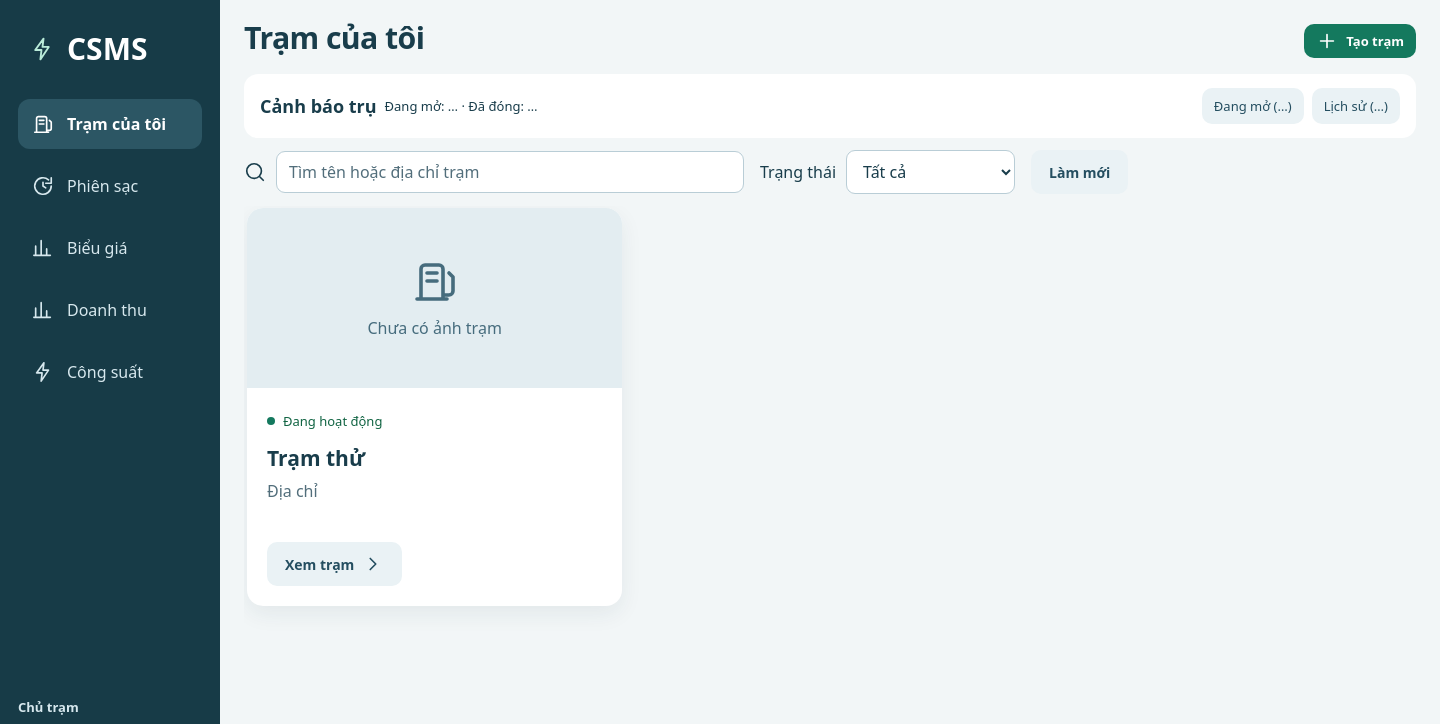
opens connector 1 from the charger card and preserves an explicit connector choice
This screenshot has width=1440, height=724.
Click the button with aria-label "Xem chi tiết Trạm thử". click: point(335, 564)
box: x1=267 y1=542 x2=402 y2=586
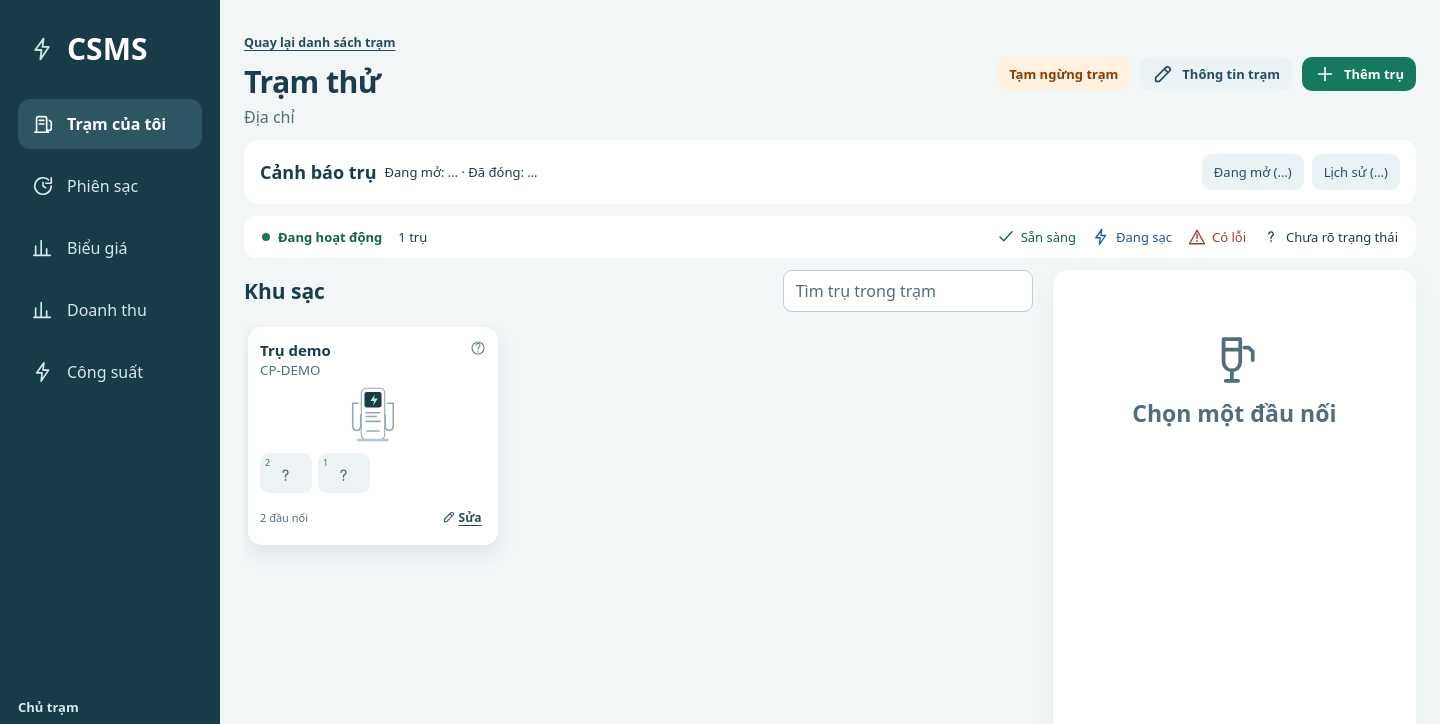
Click the button with aria-label "Xem trụ Trụ demo". click: point(295, 350)
box: x1=260 y1=340 x2=331 y2=360
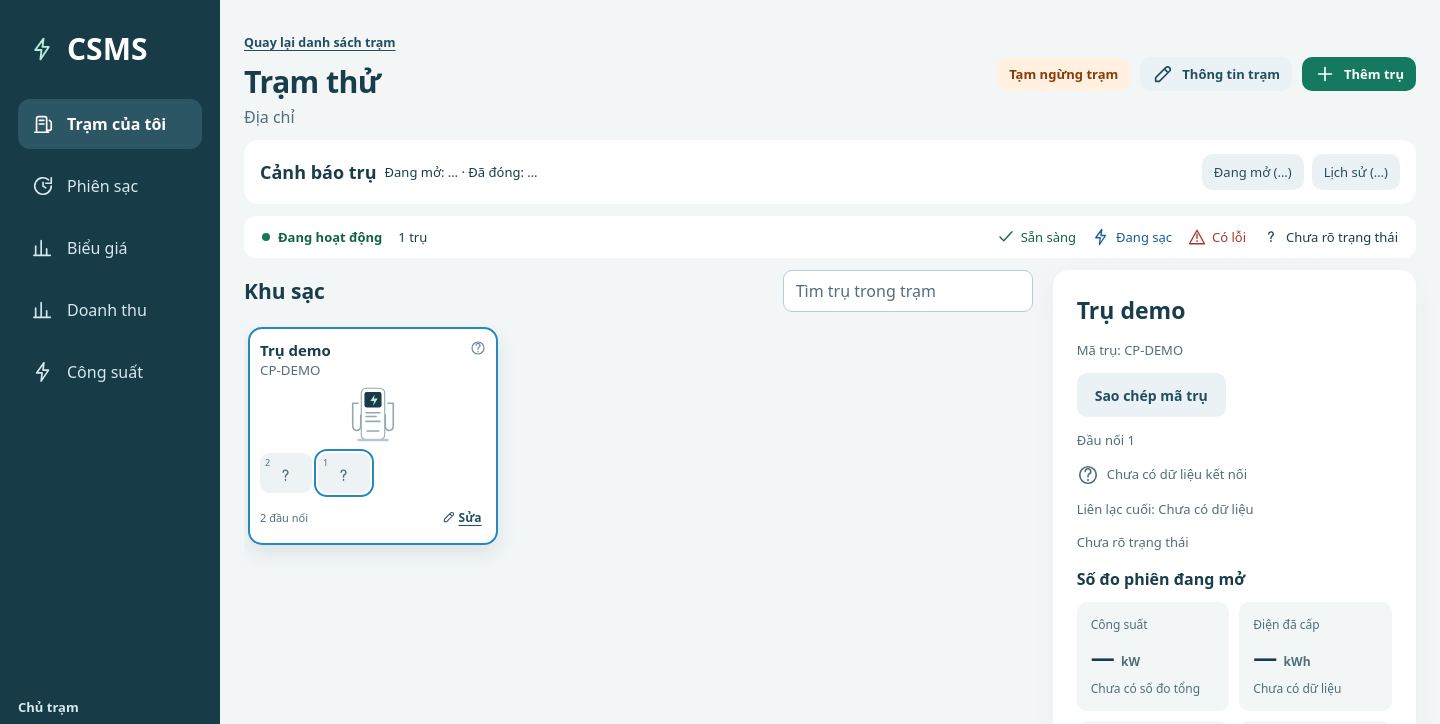
Expected: the text "Đầu nối 1" is shown, x1=1077 y1=431 x2=1135 y2=449
Click the button named "CP-DEMO · Đầu nối 2:". click: point(286, 473)
box: x1=260 y1=453 x2=312 y2=493
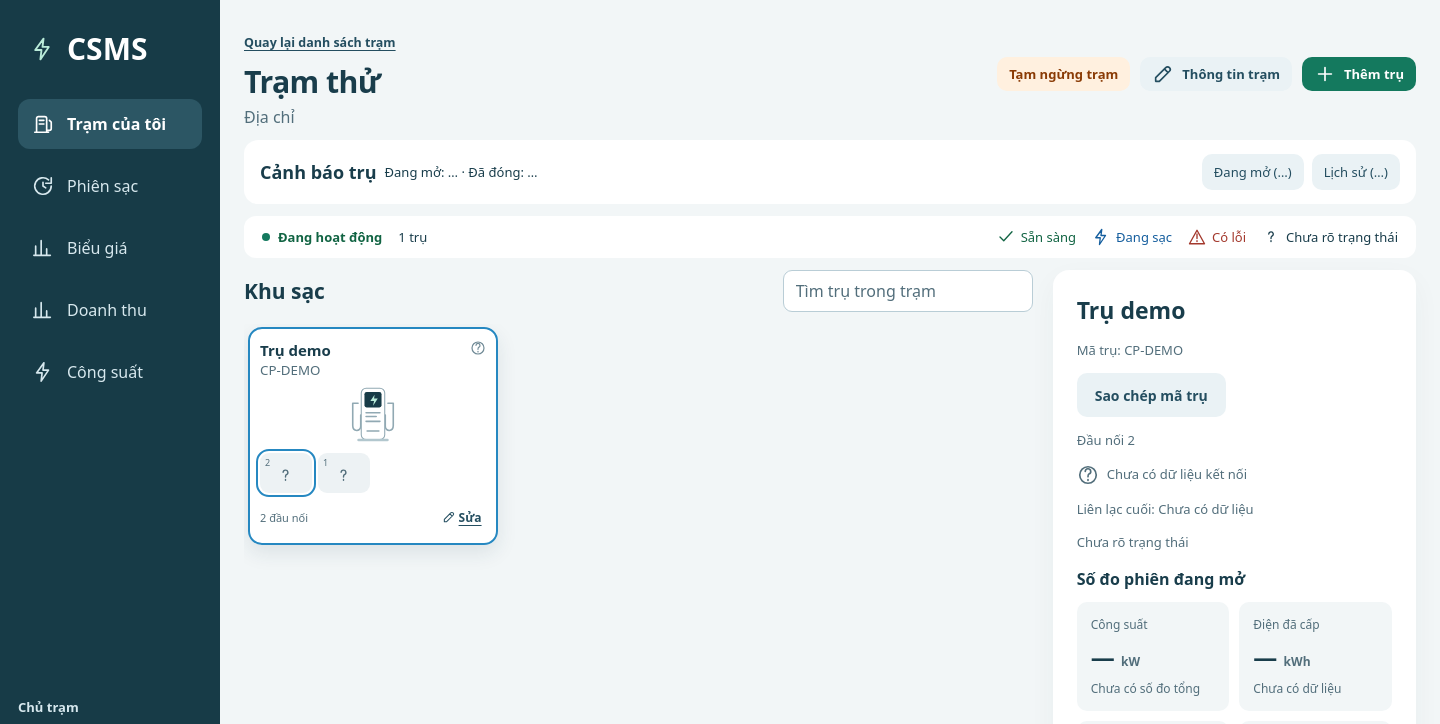
Expected: the text "Đầu nối 2" is shown, x1=1077 y1=431 x2=1135 y2=449
Click the element named "Xem trụ Trụ demo". click: point(373, 436)
box: x1=248 y1=327 x2=498 y2=545
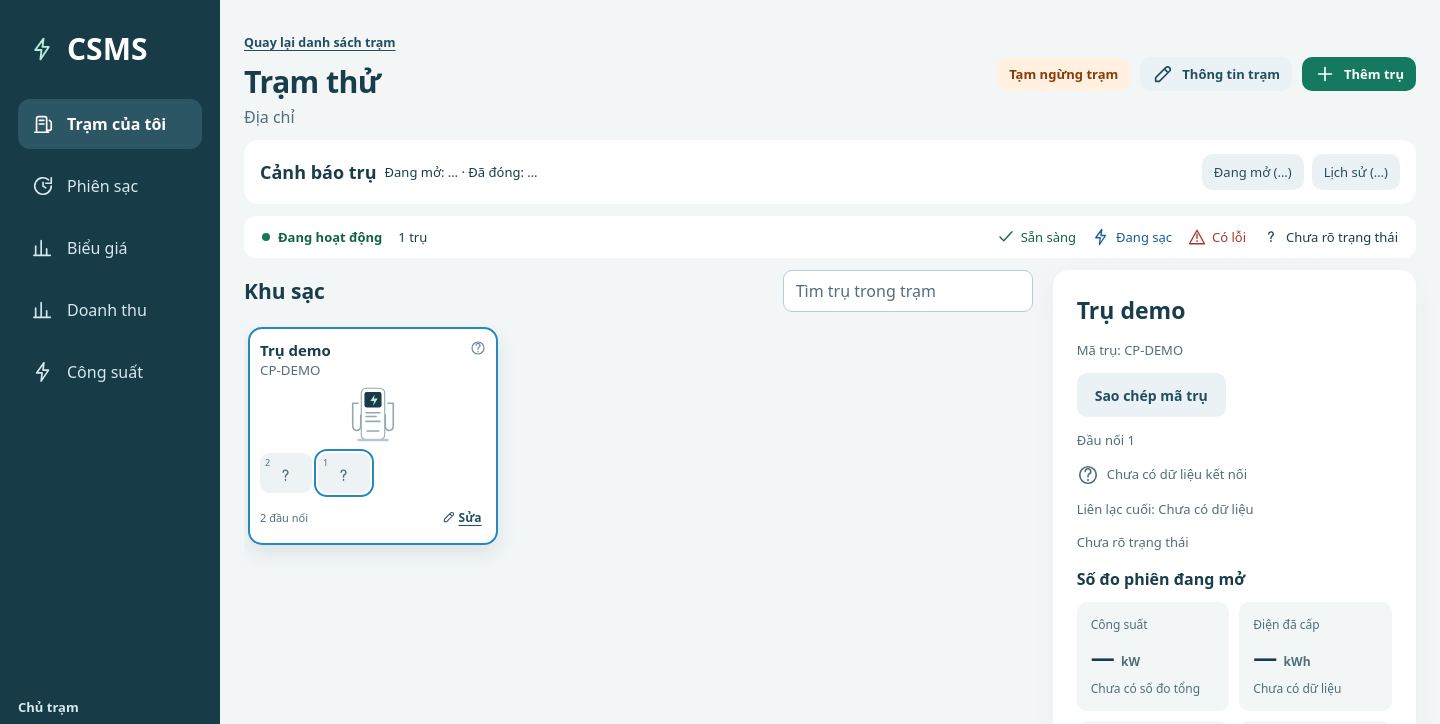
Expected: the text "Đầu nối 1" is shown, x1=1077 y1=431 x2=1135 y2=449
